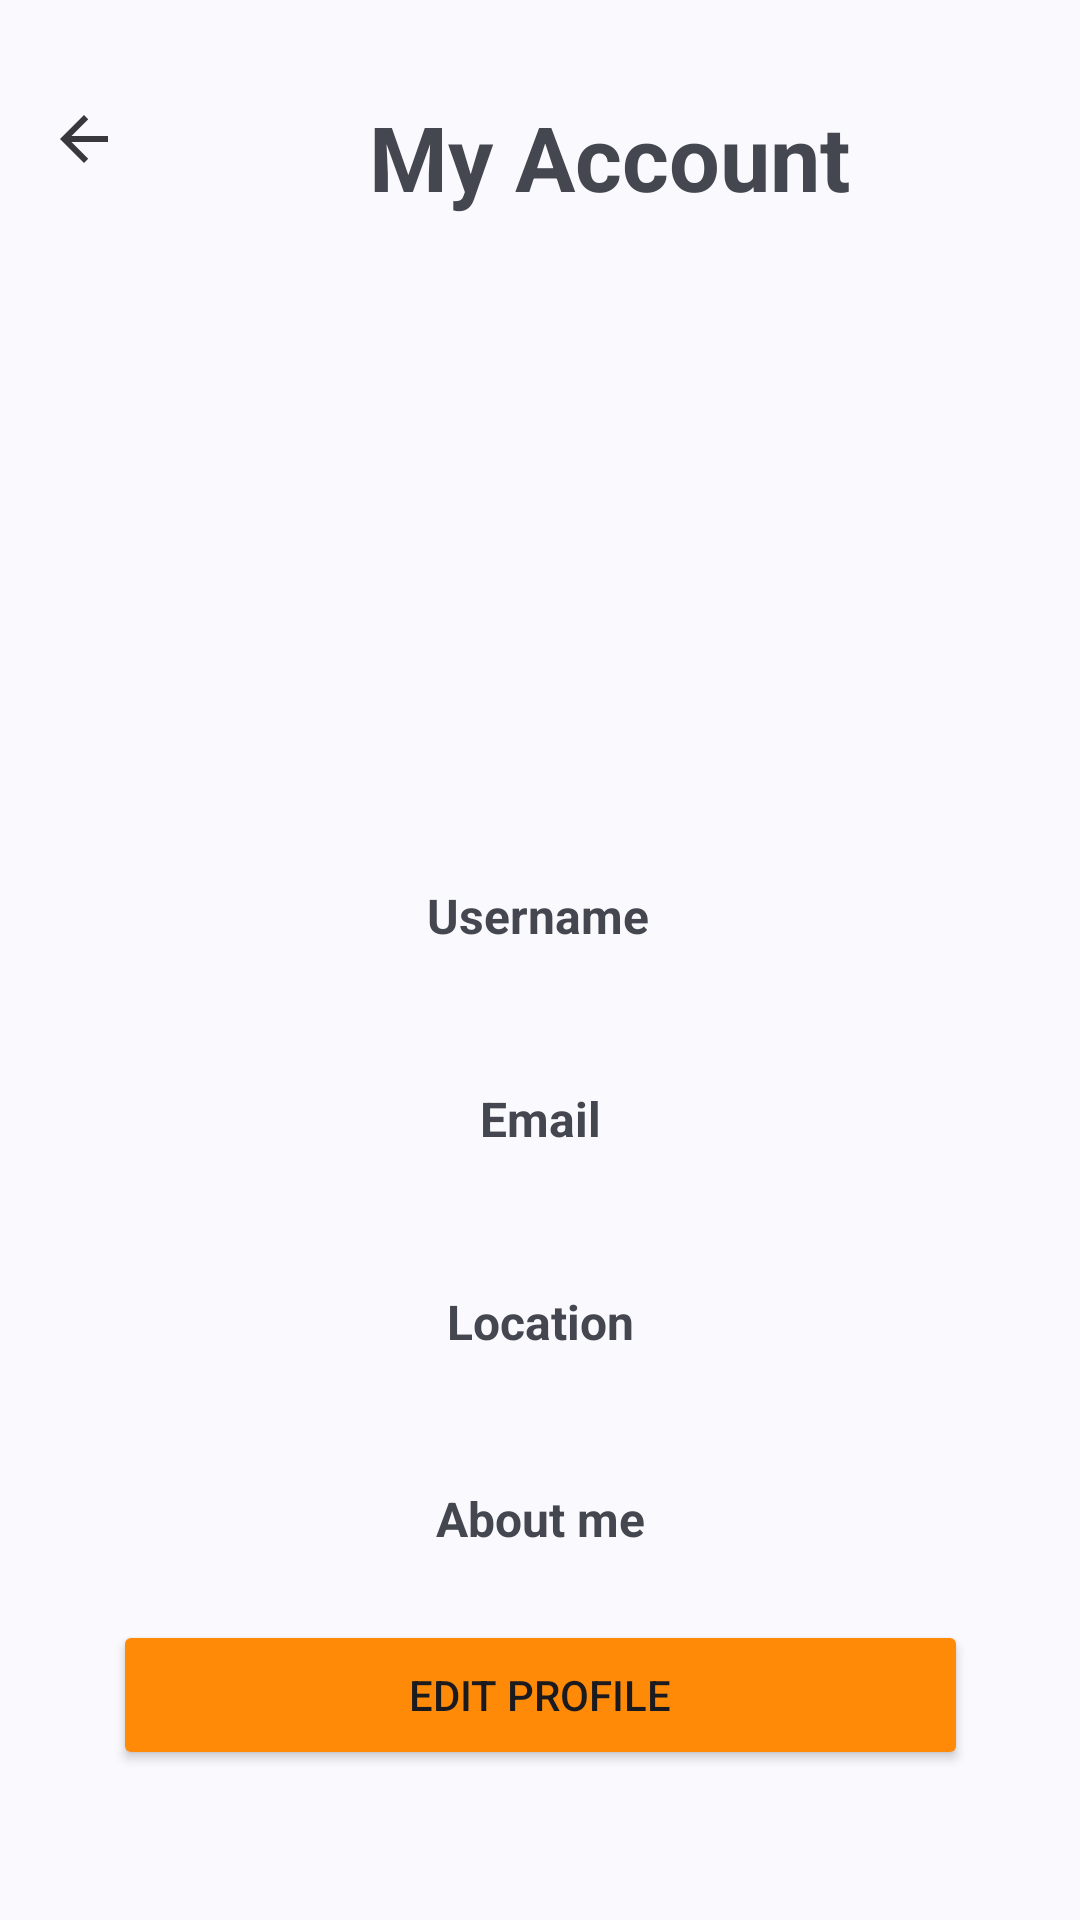

Locate icon controls on the screen. Image size 1080px×1920px, boxes as (x1, y1, x2, y2).
arrow back: (60, 115, 108, 163)
